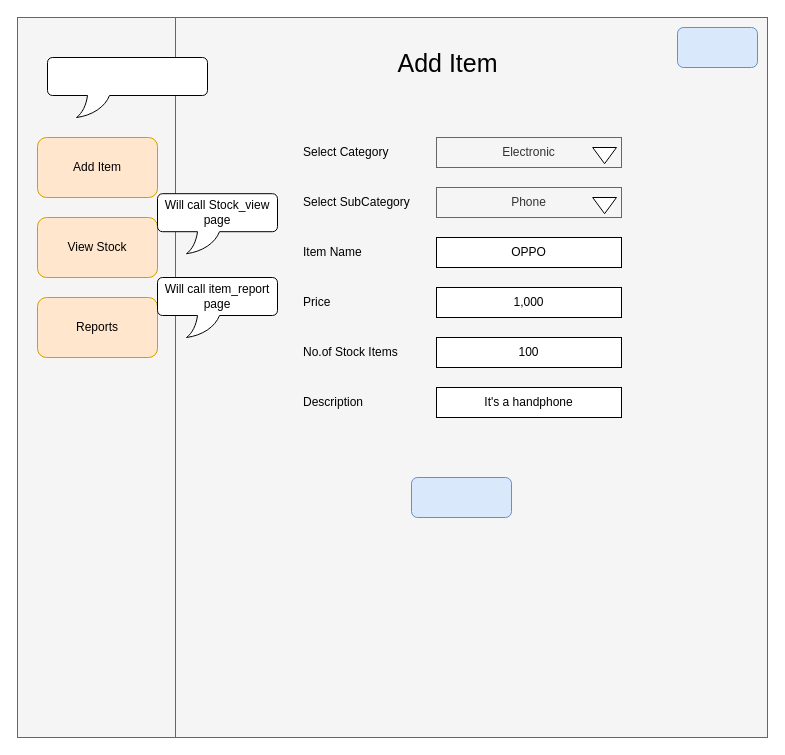
This 785x755 diagram has some shape labels left out. Each missing label, with the centre of its shape:
"Logout" goes at (x=717, y=47).
"Save & Sell Item" goes at (x=461, y=497).
"Seller's menu" goes at (x=127, y=87).
